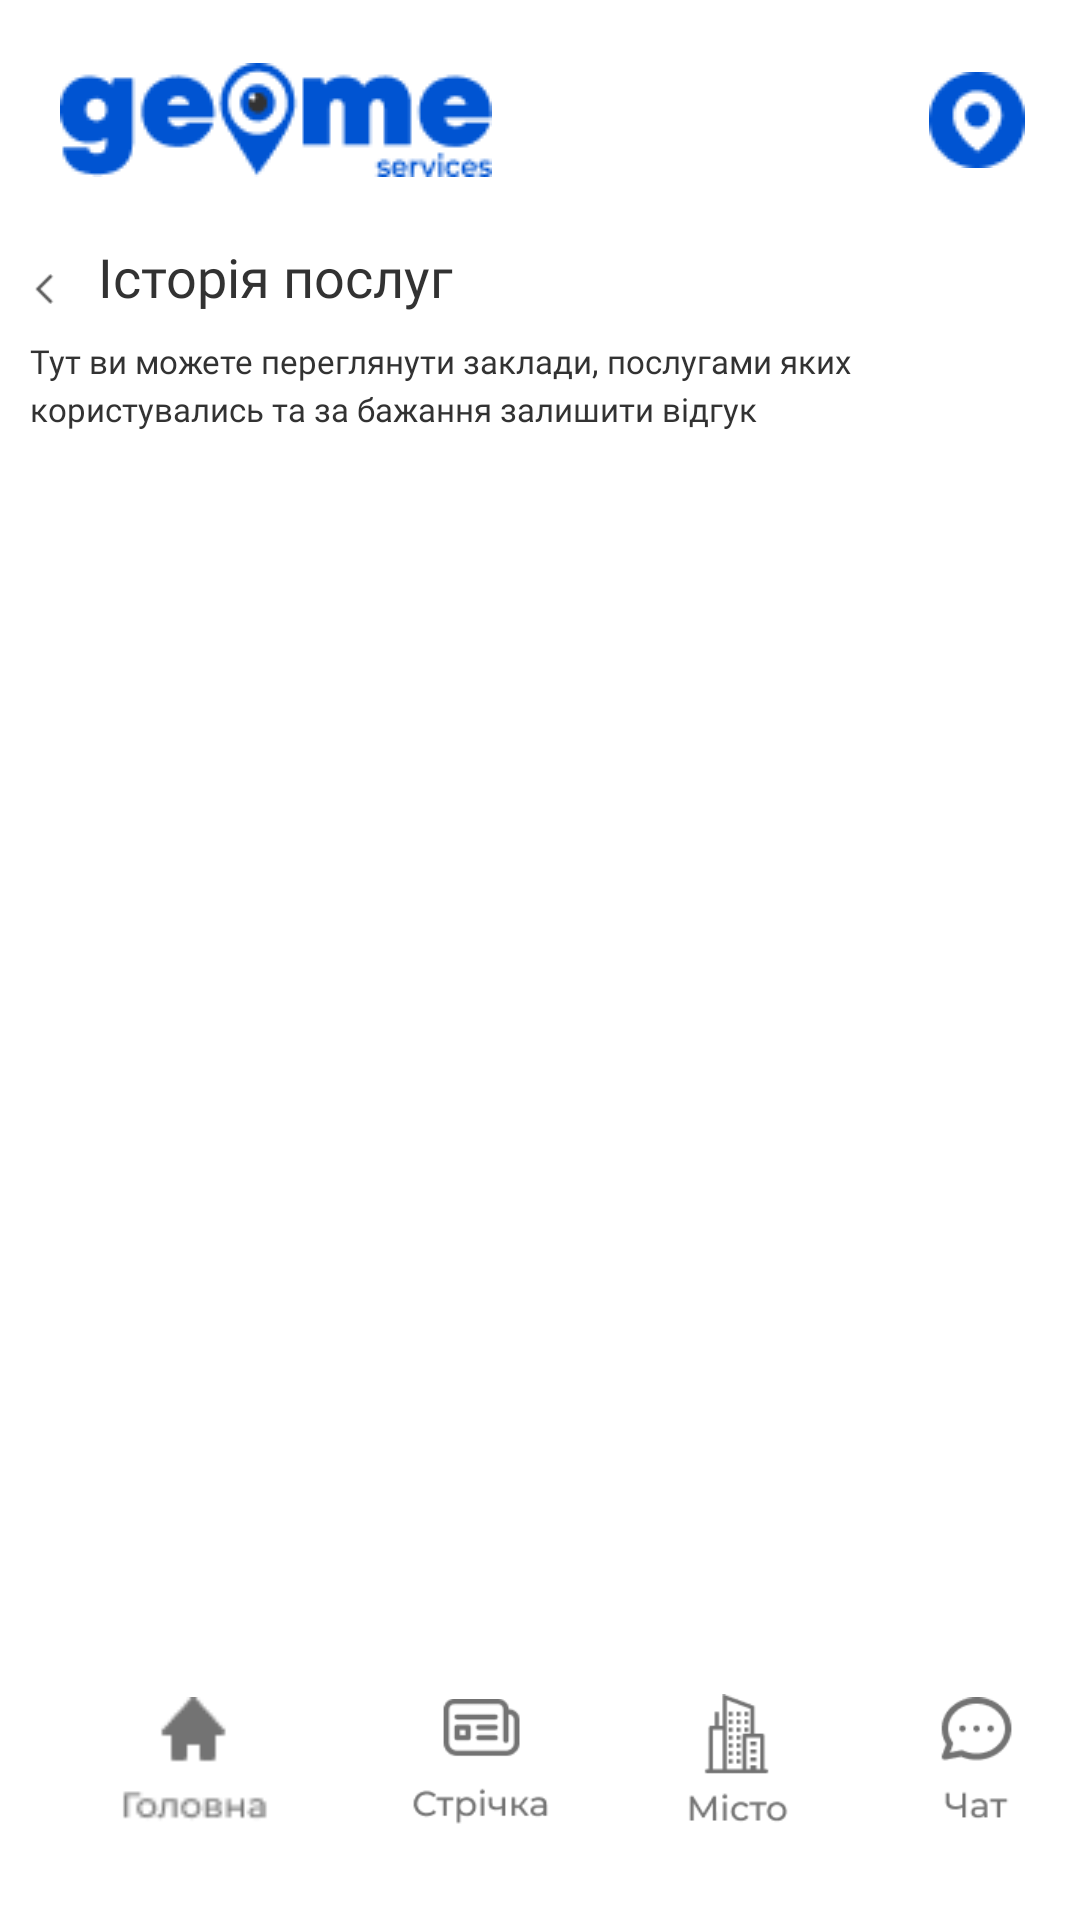

Locate icon controls on the screen. Image size 1080w x 1920h, boxes as (x1,y1,x2,y2).
Кнопка Мапа: (929,72,1025,168)
